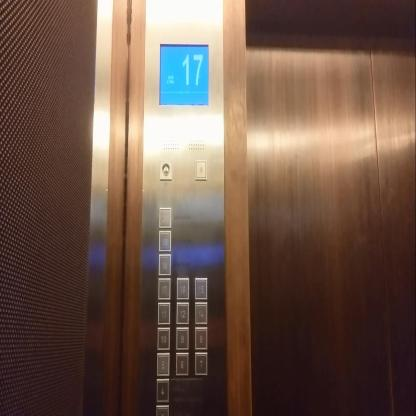10: (157, 328, 169, 350)
11: (158, 302, 170, 324)
12: (176, 302, 188, 324)
14: (195, 302, 207, 324)
15: (195, 277, 207, 299)
16: (176, 277, 189, 299)
17: (158, 277, 170, 299)
18: (158, 254, 171, 275)
19: (159, 230, 171, 251)
4: (156, 379, 169, 402)
5: (157, 352, 169, 375)
6: (176, 352, 188, 375)
7: (195, 352, 207, 374)
8: (195, 326, 207, 348)
9: (176, 327, 188, 349)
alarm: (195, 160, 207, 180)
blur: (159, 207, 171, 228)
keyhole: (160, 160, 172, 180)
led: (159, 43, 208, 106)
